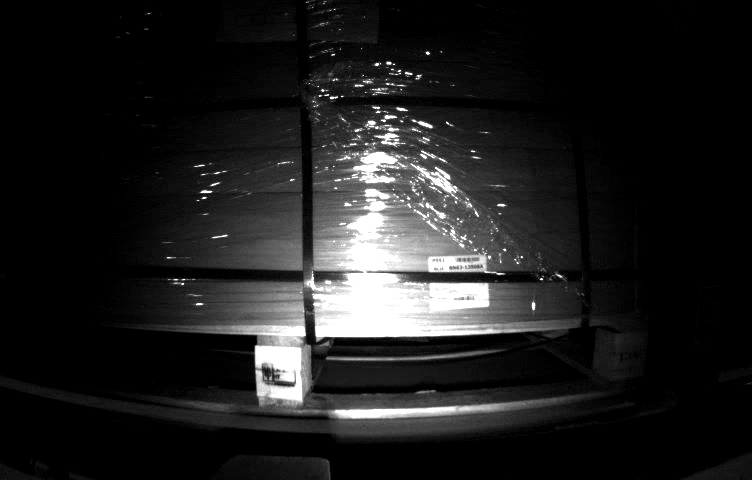True Barcode: (426, 253, 494, 310)
